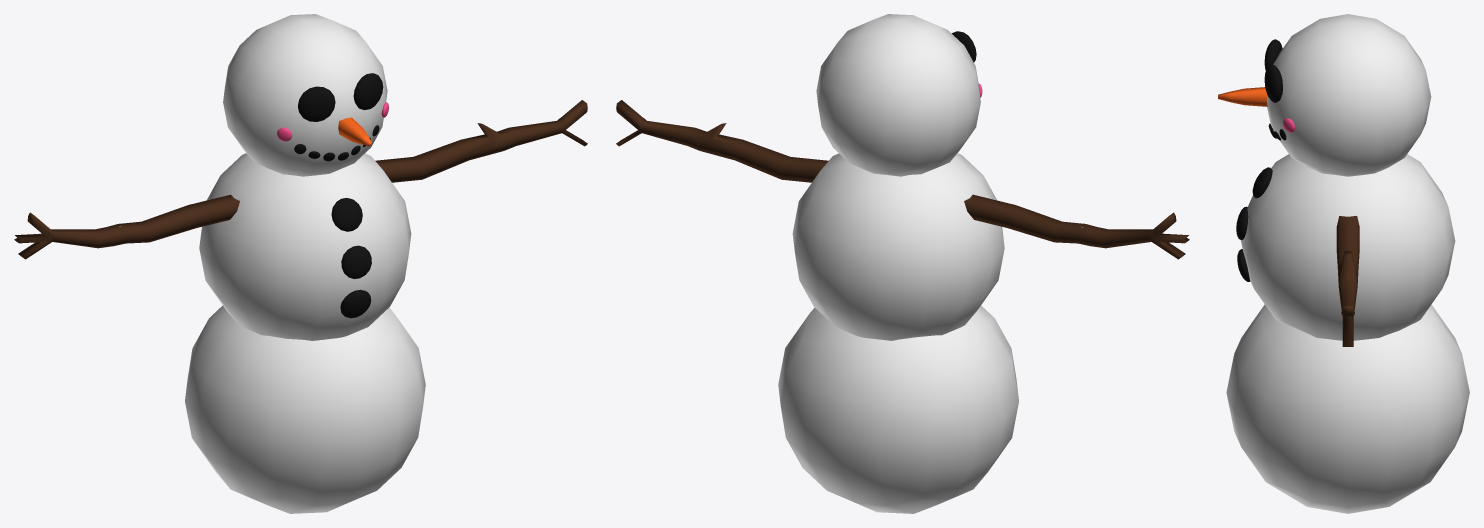
File: happy-snowman.glb
3 views of the same model, side by side, from view 1: azimuth 30°, elevation 25°; view 2: azimuth 150°, elevation 25°; view 3: azimuth 270°, elevation 25° (orthographic).
Visible parts, largest first — view 1: Roundcube, Roundcube.001, Roundcube.002, Cube.001, Roundcube.003, Roundcube.009, Roundcube.010, Roundcube.011; view 2: Roundcube, Roundcube.001, Roundcube.002, Cube.001; view 3: Roundcube, Roundcube.001, Roundcube.002, Cube.001, Roundcube.003, Cube, Roundcube.009, Roundcube.010.
Part boxes in pixels (x1,y1,x2,y2): Roundcube: [185, 305, 425, 513]; Roundcube.001: [199, 153, 411, 340]; Roundcube.002: [223, 14, 387, 176]; Cube.001: [14, 100, 587, 259]; Roundcube.003: [298, 73, 383, 121]; Roundcube.009: [331, 198, 362, 231]; Roundcube.010: [341, 245, 371, 278]; Roundcube.011: [340, 289, 371, 318]; Roundcube: [778, 305, 1018, 513]; Roundcube.001: [792, 153, 1004, 340]; Roundcube.002: [816, 14, 980, 176]; Cube.001: [616, 100, 1189, 259]; Roundcube: [1226, 304, 1469, 513]; Roundcube.001: [1241, 154, 1455, 340]; Roundcube.002: [1266, 14, 1431, 176]; Cube.001: [1336, 216, 1359, 346]; Roundcube.003: [1264, 39, 1282, 102]; Cube: [1218, 87, 1267, 106]; Roundcube.009: [1252, 167, 1272, 198]; Roundcube.010: [1236, 206, 1248, 239].
Bounding box in the file's own units: 7308 × 5922 × 2808.
Materials: 2 (2 with a texture image).
